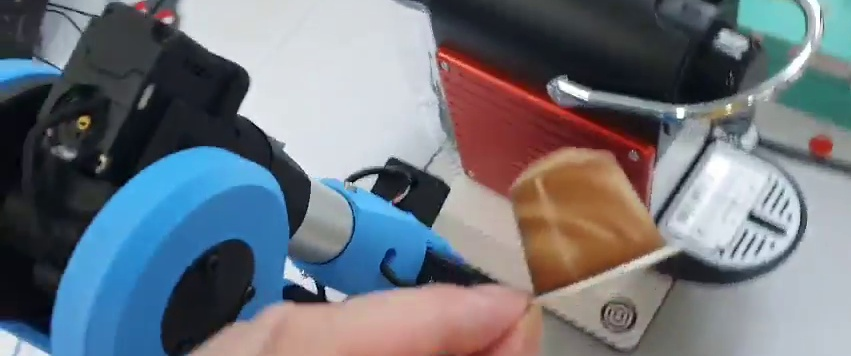capsule_12: (510, 147, 685, 304)
